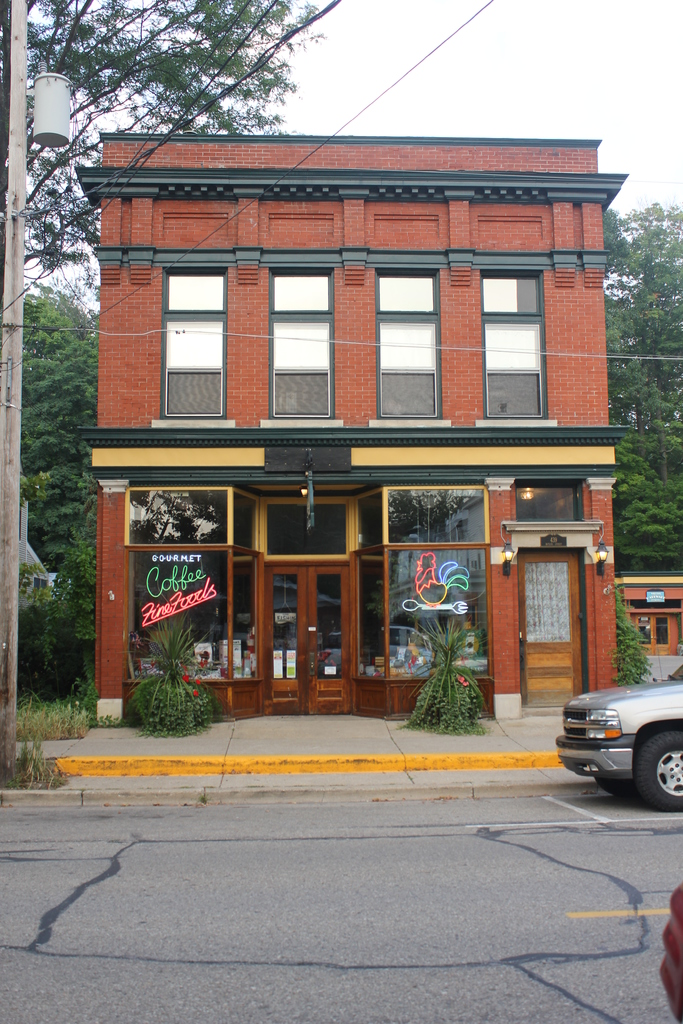Car: (545, 666, 682, 809)
